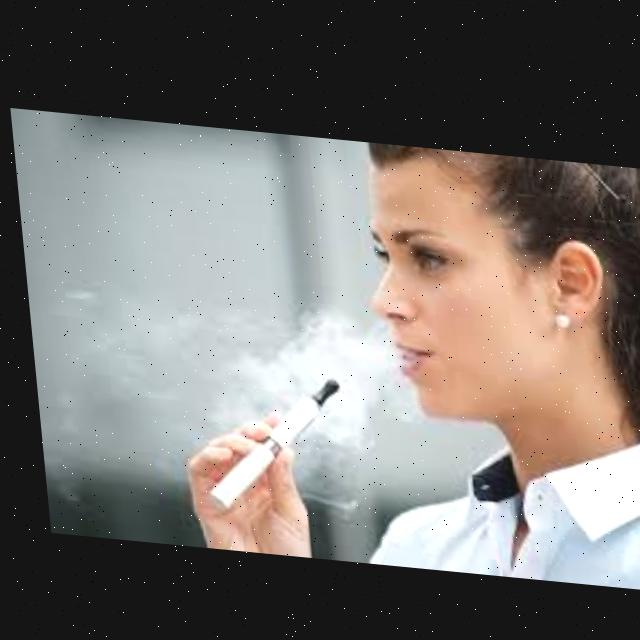vape: (187, 358, 343, 520)
